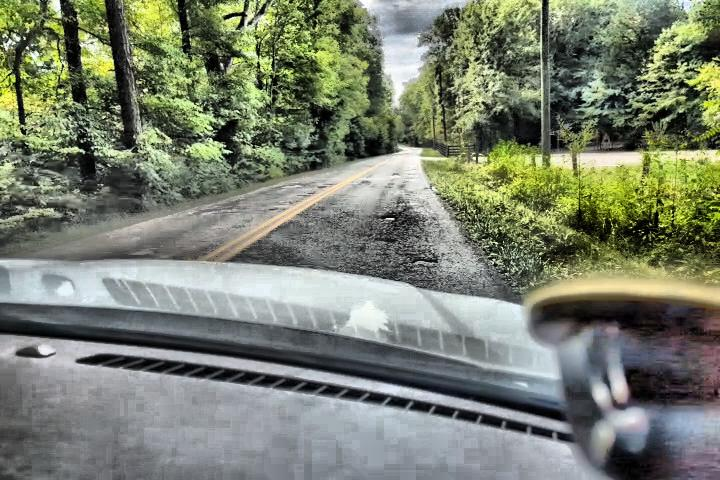pothole: (271, 176, 307, 196), (406, 253, 439, 269), (379, 209, 399, 226)
